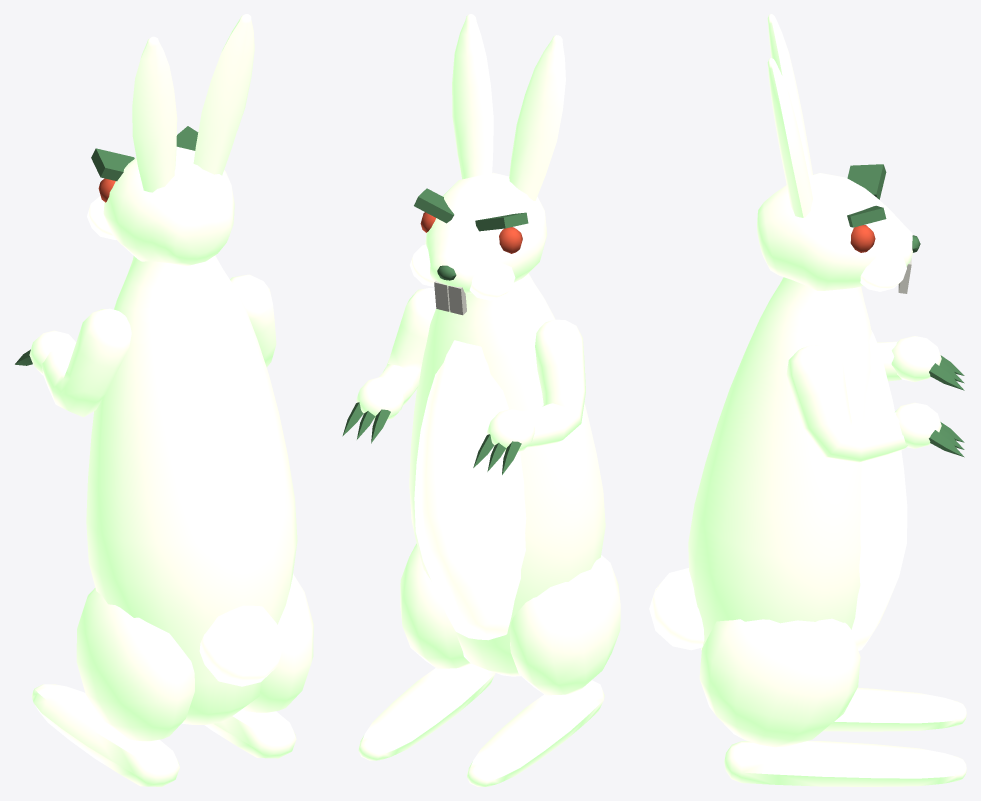
The model's file is UprightBunny.glb.
The picture shows the model from 3 angles, left to right: view 1: azimuth 30°, elevation 25°; view 2: azimuth 150°, elevation 25°; view 3: azimuth 270°, elevation 25°; orthographic projection. The views are drawn at different scales.
Visible parts, largest first — view 1: Body, Head; view 2: Body, Head; view 3: Body, Head.
Part boxes in pixels (bbox=[...]): Body: bbox=[15, 255, 313, 786]; Head: bbox=[87, 14, 254, 265]; Body: bbox=[342, 273, 620, 786]; Head: bbox=[410, 14, 565, 315]; Body: bbox=[649, 277, 966, 786]; Head: bbox=[757, 14, 920, 293].
Size of the model in its own units: 0.61 by 2.06 by 0.8252.
